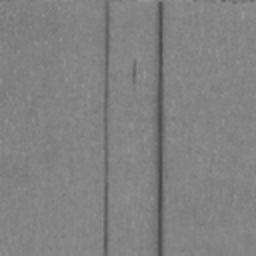Scratches: (102, 0, 110, 256), (156, 0, 164, 256)
